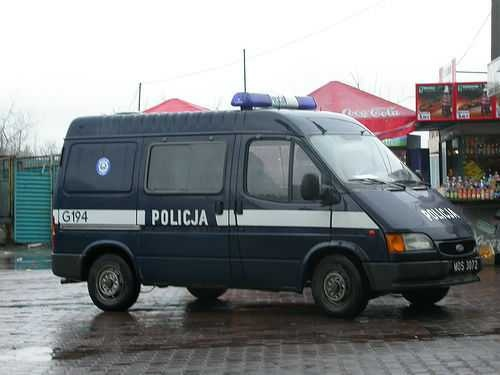Police Van: (42, 96, 469, 317)
